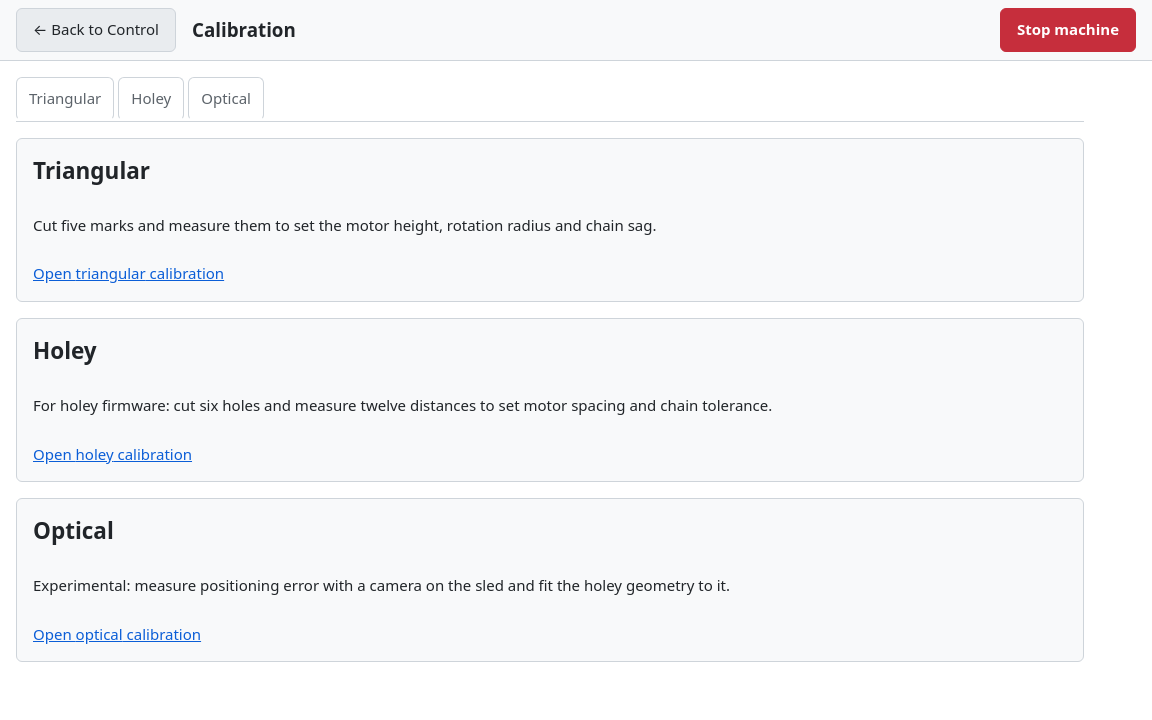
Test: optical calibration visibility › is listed in the calibration page while the setting is on
The width and height of the screenshot is (1152, 720).
Click the link "Open optical calibration" at (117, 634), box [33,624,201,644]
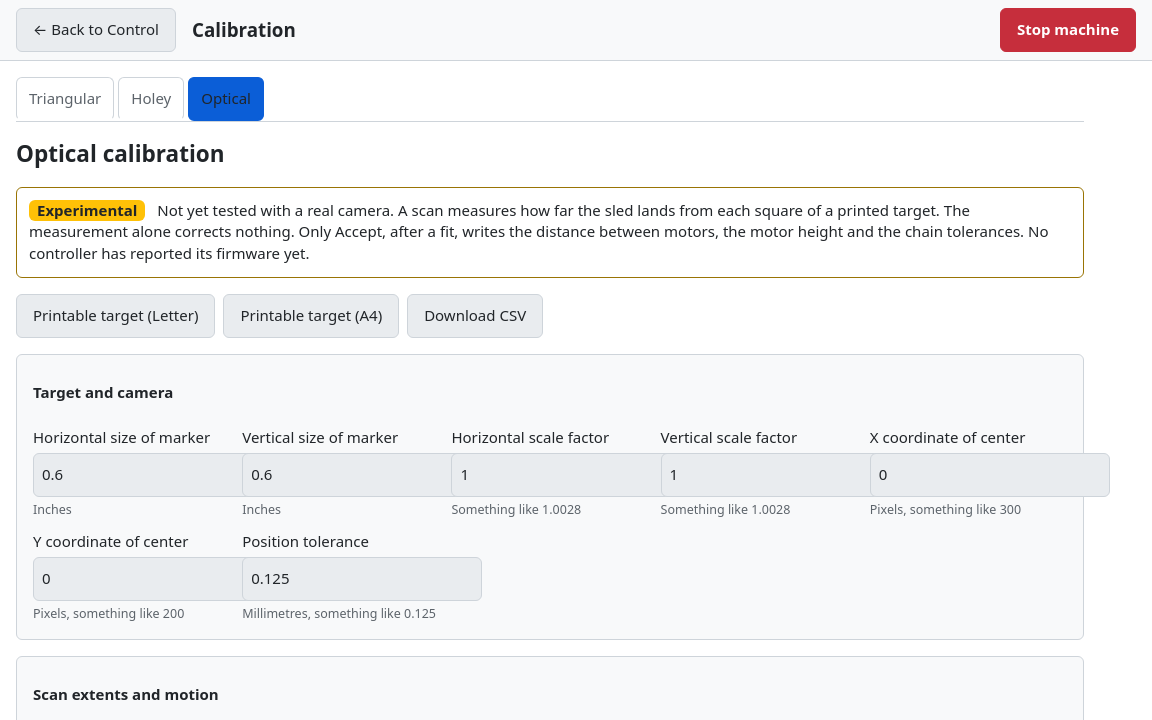
expect the heading "Optical calibration" is shown: met, box [16,138,224,169]
expect the link "Optical" is marked as current: met, box [188,77,264,121]
